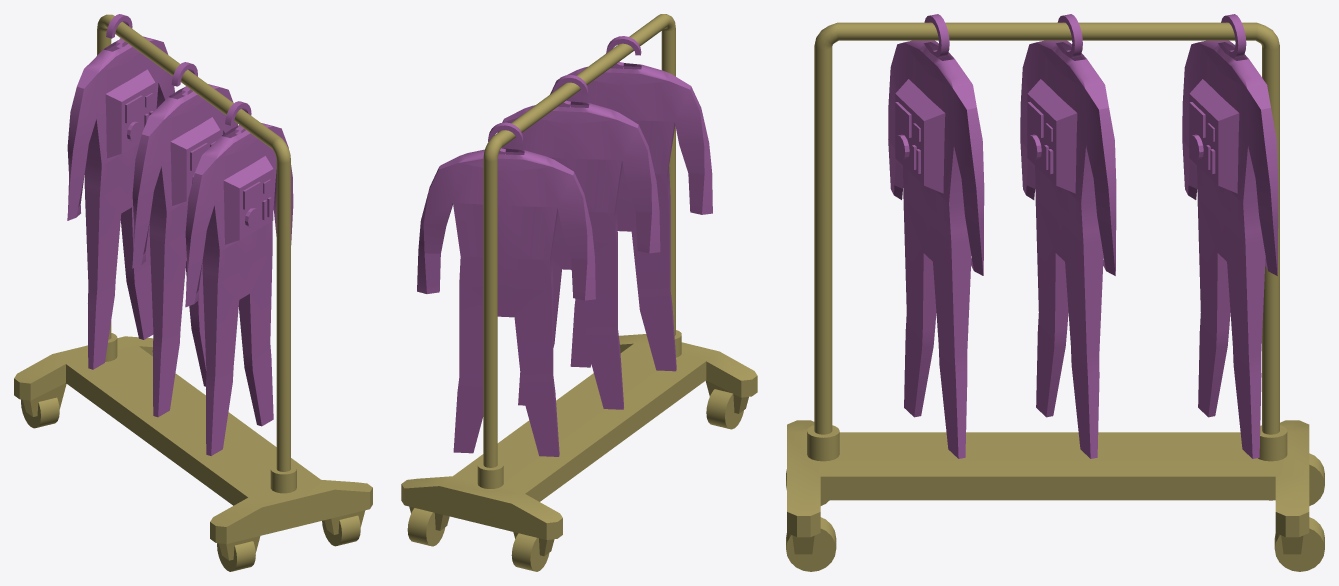
Rendered from Clothes_Hanger.fbx.
The picture shows the model from 3 angles, left to right: view 1: azimuth 30°, elevation 25°; view 2: azimuth 150°, elevation 25°; view 3: azimuth 270°, elevation 25°; orthographic projection. The views are drawn at different scales.
Visible parts, largest first — view 1: Hanger, Suit1, Suit3, Suit2; view 2: Hanger, Suit3, Suit2, Suit1; view 3: Hanger, Suit3, Suit2, Suit1.
Part boxes in pixels (box(x1,y1,x2,y2)): Hanger: box(14, 14, 372, 571); Suit1: box(185, 101, 293, 455); Suit3: box(67, 14, 174, 369); Suit2: box(132, 62, 237, 417); Hanger: box(401, 14, 757, 571); Suit3: box(417, 122, 595, 456); Suit2: box(497, 75, 660, 409); Suit1: box(550, 36, 712, 371); Hanger: box(786, 22, 1324, 571); Suit3: box(1182, 14, 1278, 458); Suit2: box(1020, 14, 1116, 458); Suit1: box(888, 14, 984, 458).
Bounding box in the file's own units: 55.68 × 141 × 133.
